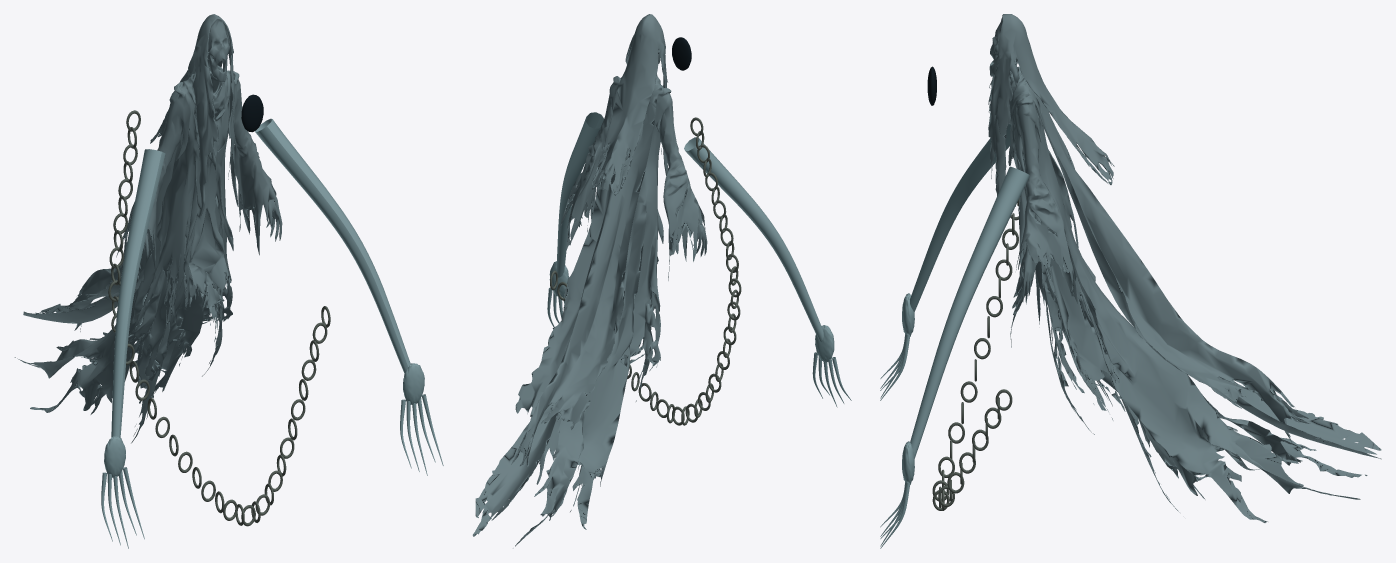
The model's file is 10-the-forgotten-well.glb.
3 renders of one model, left to right at view 1: azimuth 30°, elevation 25°; view 2: azimuth 150°, elevation 25°; view 3: azimuth 270°, elevation 25°, orthographic. The views are drawn at different scales.
Parts seen in each view (by area): view 1: sculpt (×6); view 2: sculpt (×6); view 3: sculpt (×5).
Part boxes in pixels (x1,y1,x2,y2): sculpt (×6): (14, 14, 443, 548); sculpt (×6): (472, 14, 851, 548); sculpt (×5): (880, 14, 1381, 548).
Size of the model in its own units: 2.44 by 3.49 by 3.15.
